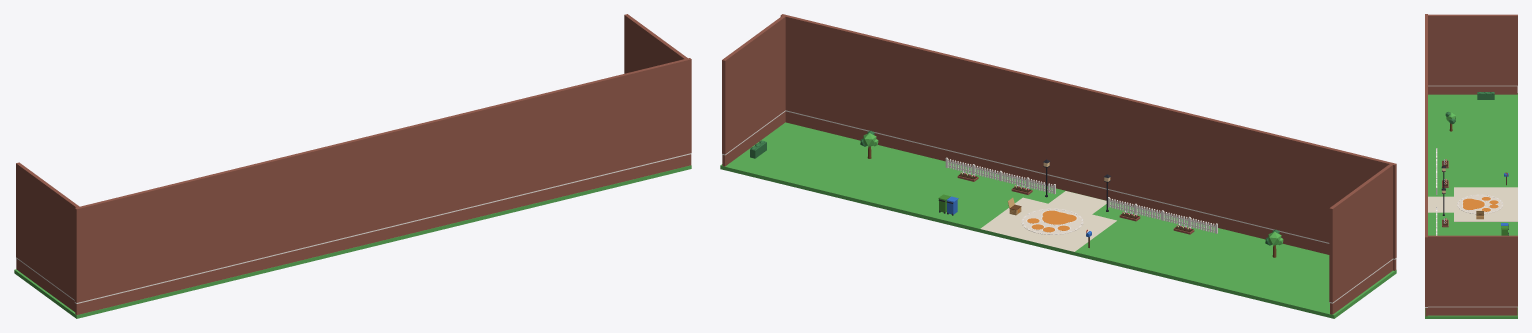
The model's file is CatCafe_Camp_NeighbourhoodF85.glb.
3 views of the same model, side by side, from view 1: azimuth 30°, elevation 25°; view 2: azimuth 150°, elevation 25°; view 3: azimuth 270°, elevation 25° (orthographic). The views are drawn at different scales.
Visible parts, largest first — view 1: CatCafe_Camp_NeighbourhoodF85_Barrier, CatCafe_Camp_NeighbourhoodF85; view 2: CatCafe_Camp_NeighbourhoodF85_Barrier, CatCafe_Camp_NeighbourhoodF85; view 3: CatCafe_Camp_NeighbourhoodF85, CatCafe_Camp_NeighbourhoodF85_Barrier, CatCafe_Camp_NeighbourhoodF85_011_Hedge, CatCafe_Camp_NeighbourhoodF85_010_Tree, CatCafe_Camp_NeighbourhoodF85_002_RecyclingBins.
Boxes of the visible parts, <box> form: CatCafe_Camp_NeighbourhoodF85_Barrier: <box>16,14,691,302</box>; CatCafe_Camp_NeighbourhoodF85: <box>14,153,691,318</box>; CatCafe_Camp_NeighbourhoodF85_Barrier: <box>722,14,1396,302</box>; CatCafe_Camp_NeighbourhoodF85: <box>720,110,1396,318</box>; CatCafe_Camp_NeighbourhoodF85: <box>1425,85,1517,318</box>; CatCafe_Camp_NeighbourhoodF85_Barrier: <box>1425,14,1517,306</box>; CatCafe_Camp_NeighbourhoodF85_011_Hedge: <box>1477,92,1494,99</box>; CatCafe_Camp_NeighbourhoodF85_010_Tree: <box>1445,112,1455,131</box>; CatCafe_Camp_NeighbourhoodF85_002_RecyclingBins: <box>1501,223,1508,235</box>.
Bounding box in the file's own units: 182 × 31 × 32.
1 material, 1 textured.
